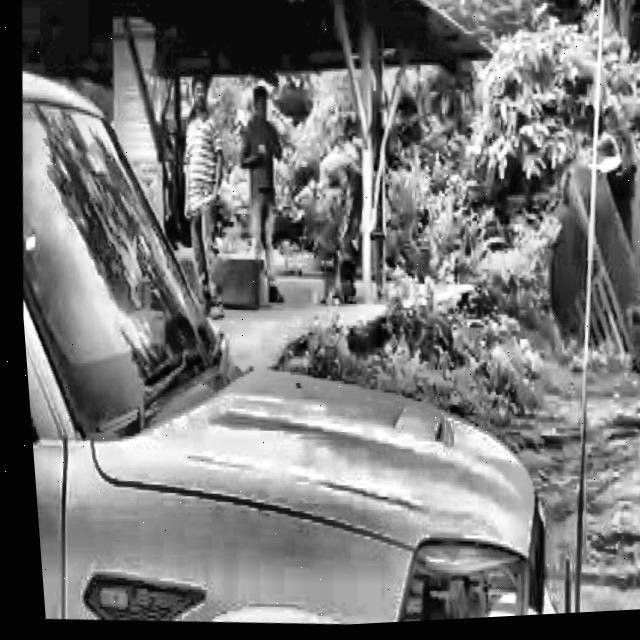light_vehicle: (0, 0, 595, 640)
